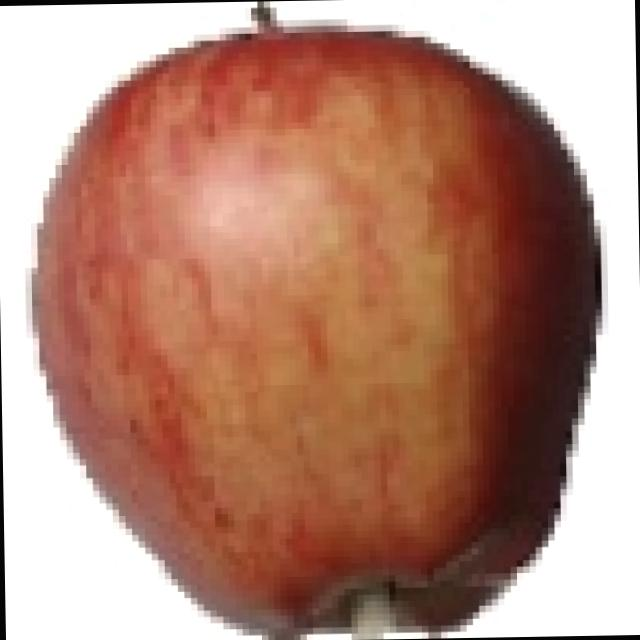apple: (16, 17, 622, 637)
